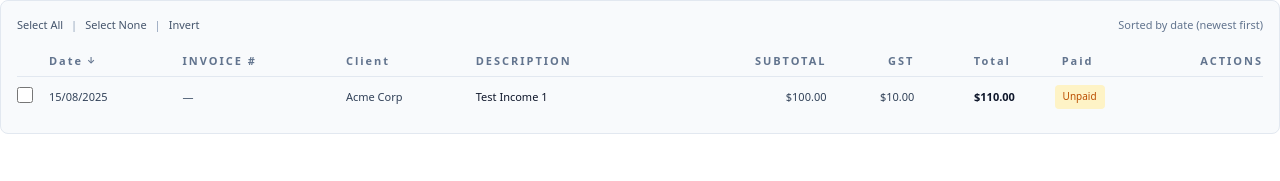
Scenario: IncomesTable › Bulk Operations › shows bulk action toolbar only when rows are selected
The image size is (1280, 181).
Expected: the text "selected" is not shown
Click the checkbox named "select income" at (25, 95), box [17, 87, 33, 103]
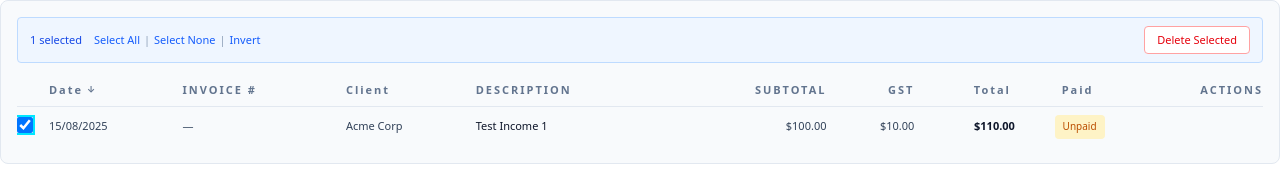
Now the text "1 selected" is shown, box [30, 32, 82, 48]
